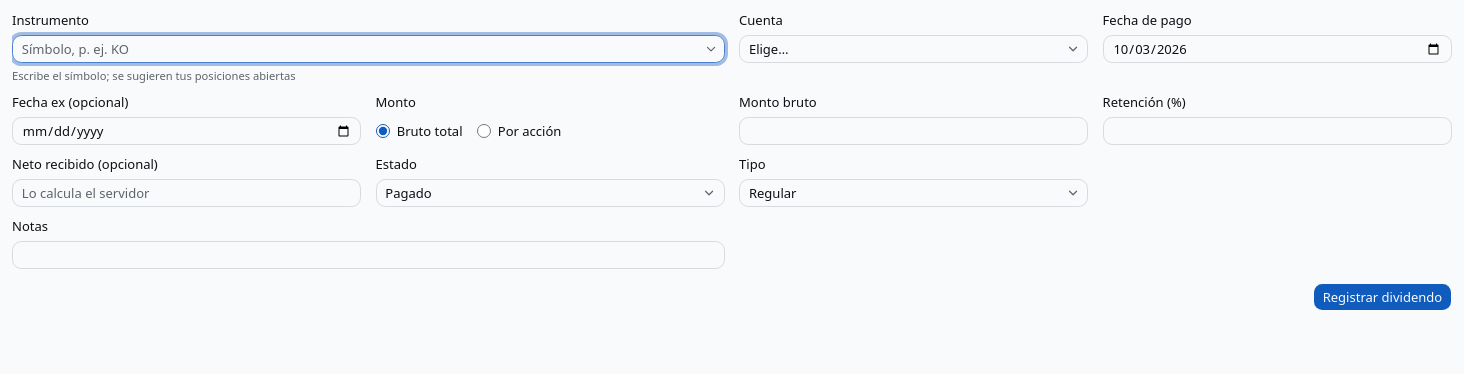
DividendForm › exige elegir un instrumento conocido
Type "XYZ" into the dropdown labelled "Instrumento" at (357, 49), box [13,35,700,63]
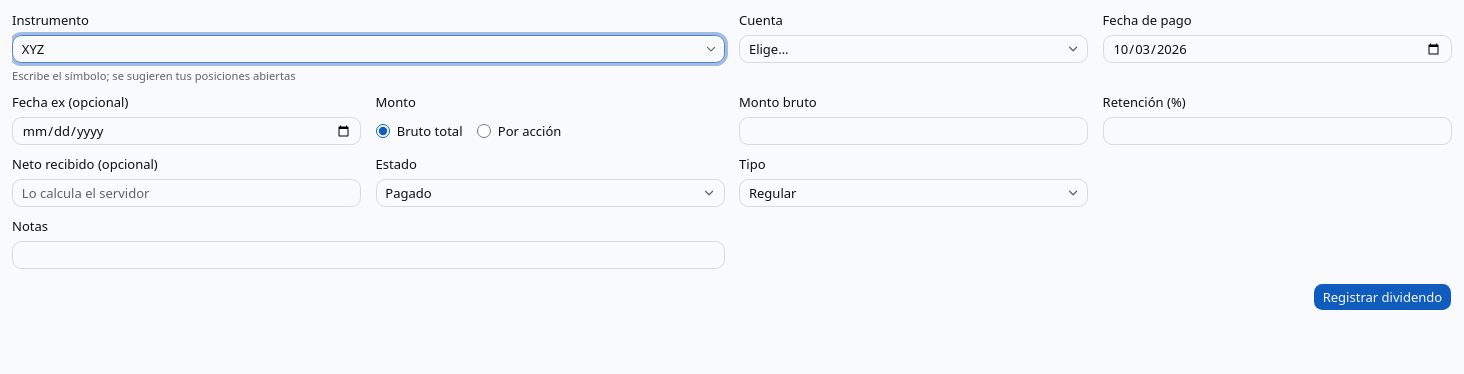
Click the button "Registrar dividendo" at (1382, 297), box [1313,283,1452,311]
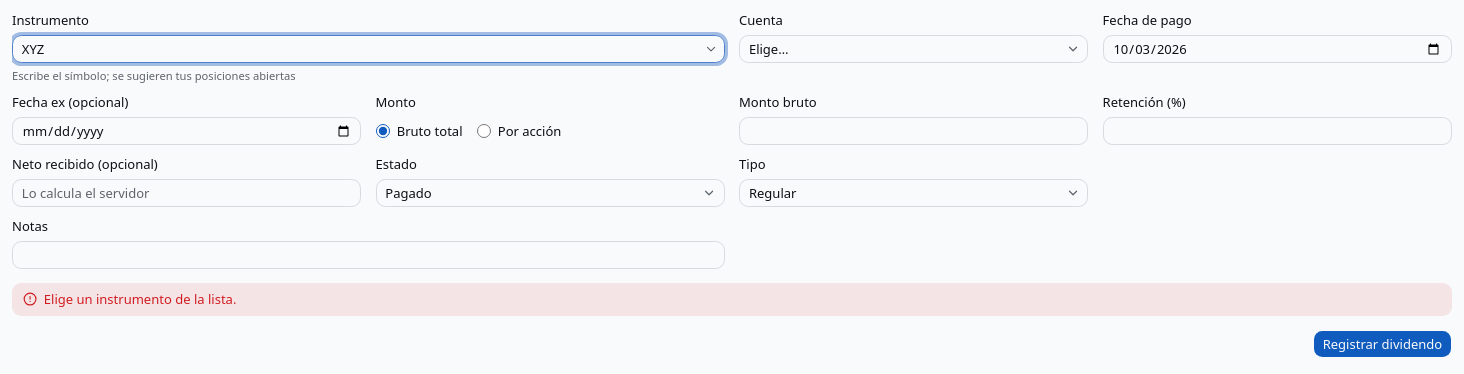
Expected: the message shows "instrumento", [44,290,236,308]
